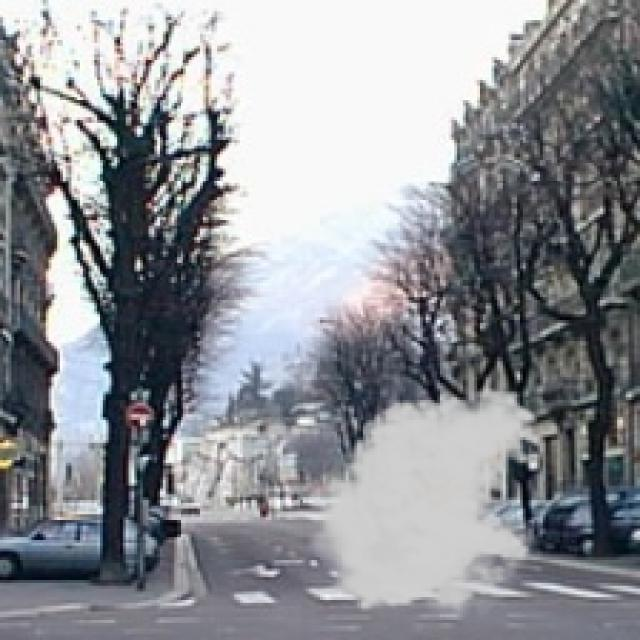Smoke: (297, 386, 546, 626)
